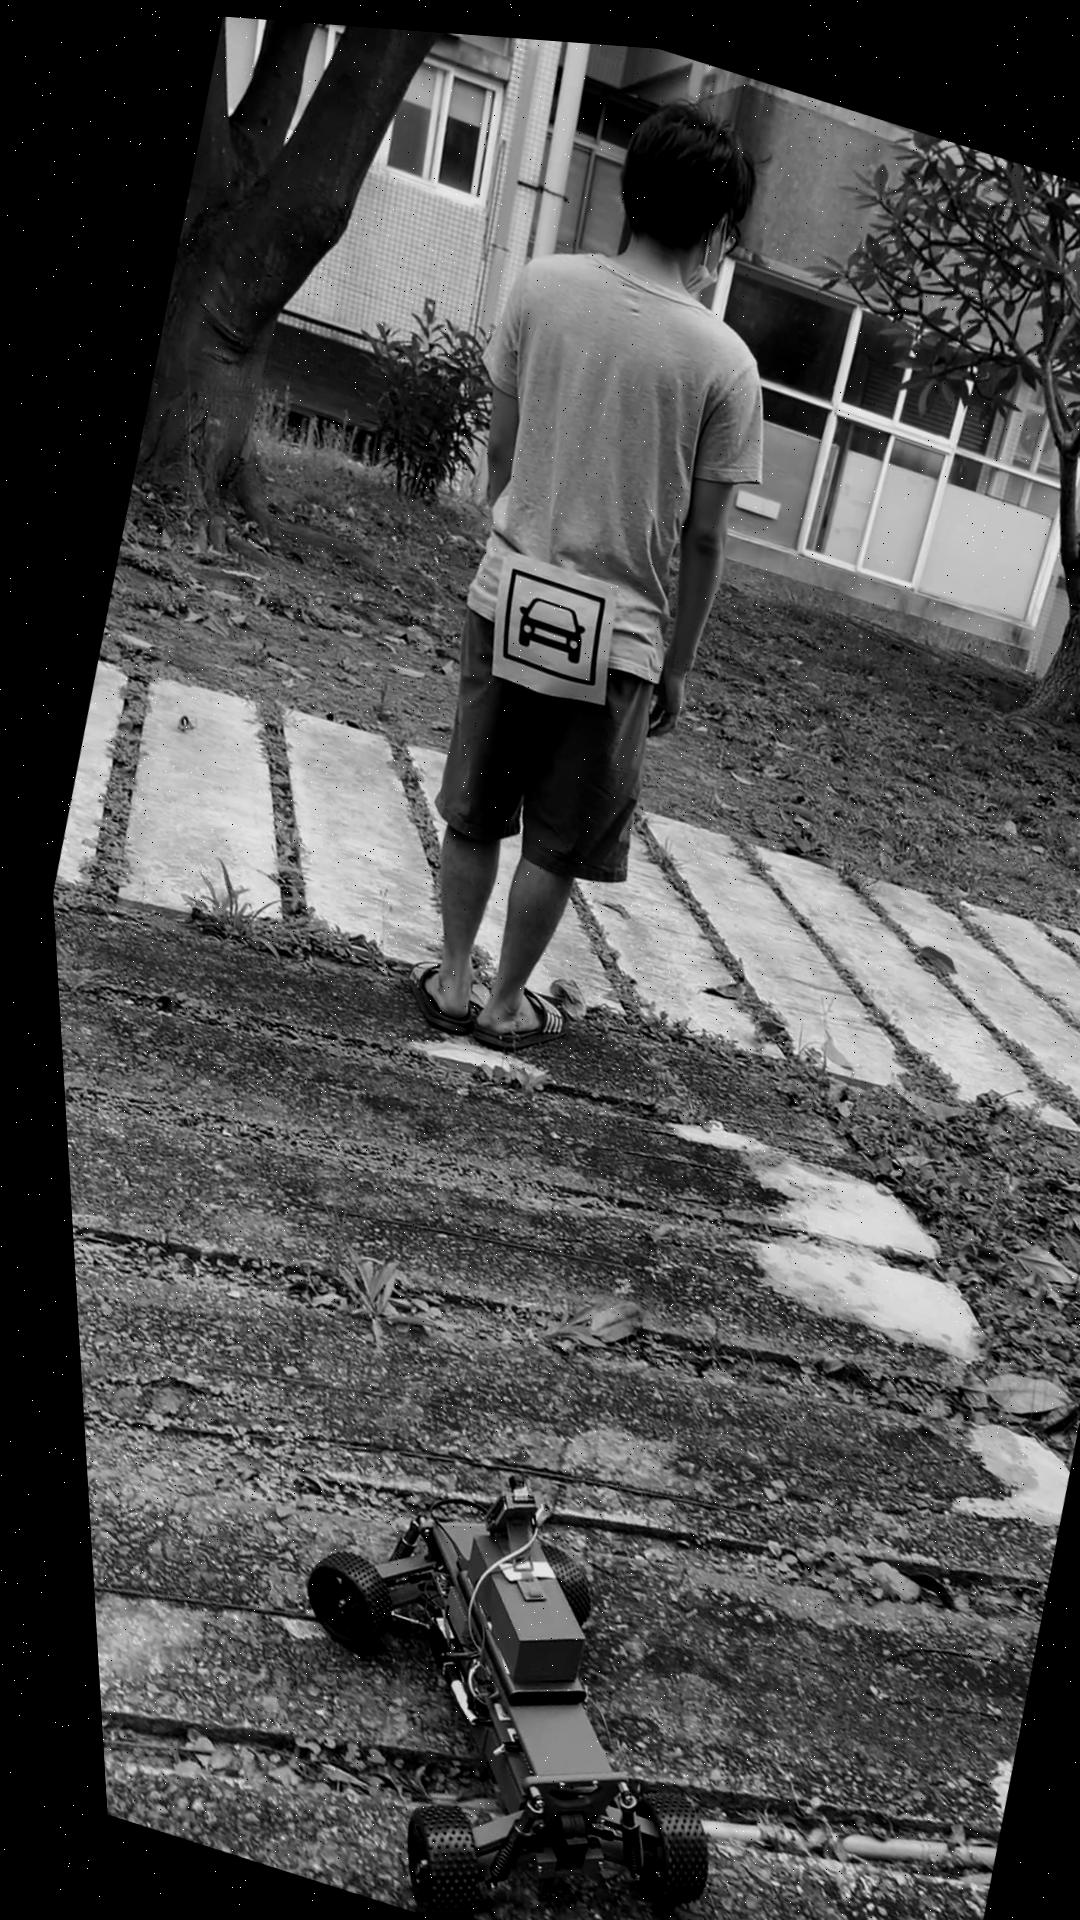car_img: (481, 558, 609, 682)
